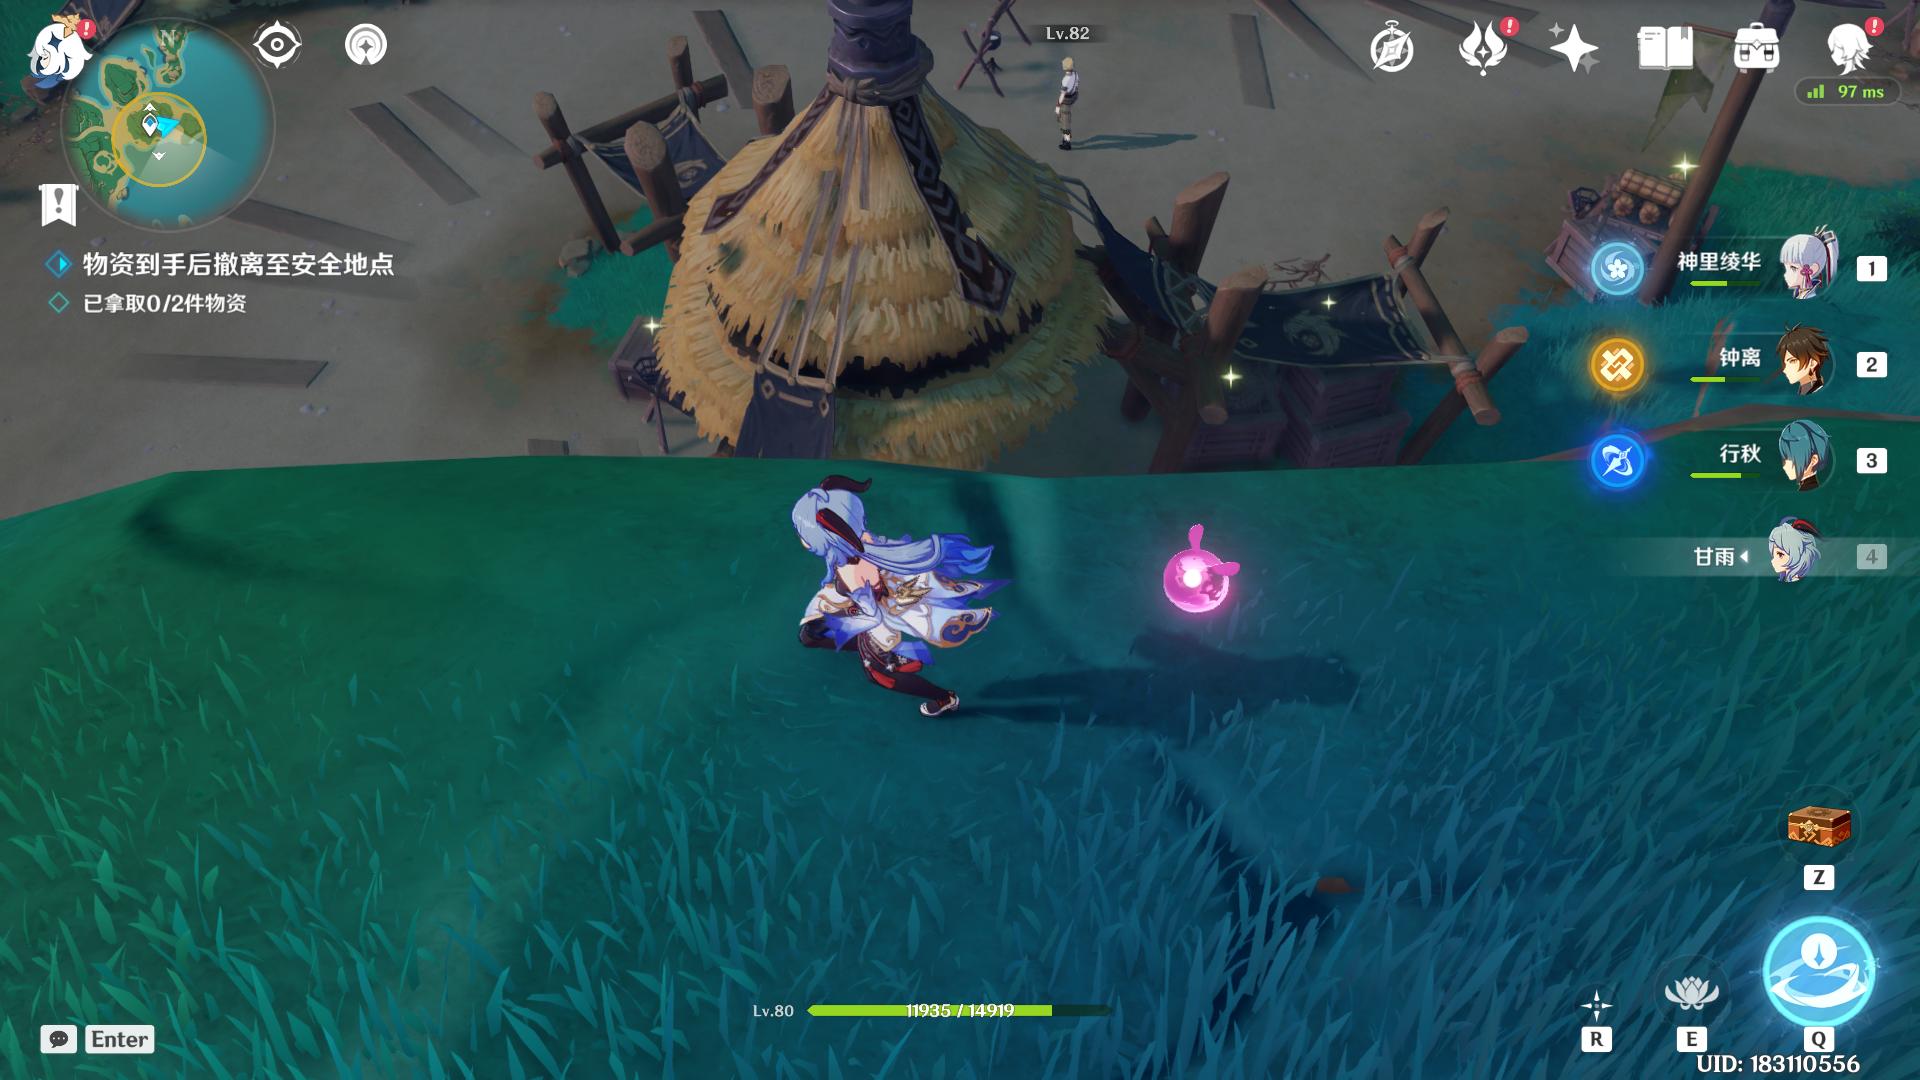character: (752, 465, 1027, 756)
robber: (1019, 47, 1105, 169)
